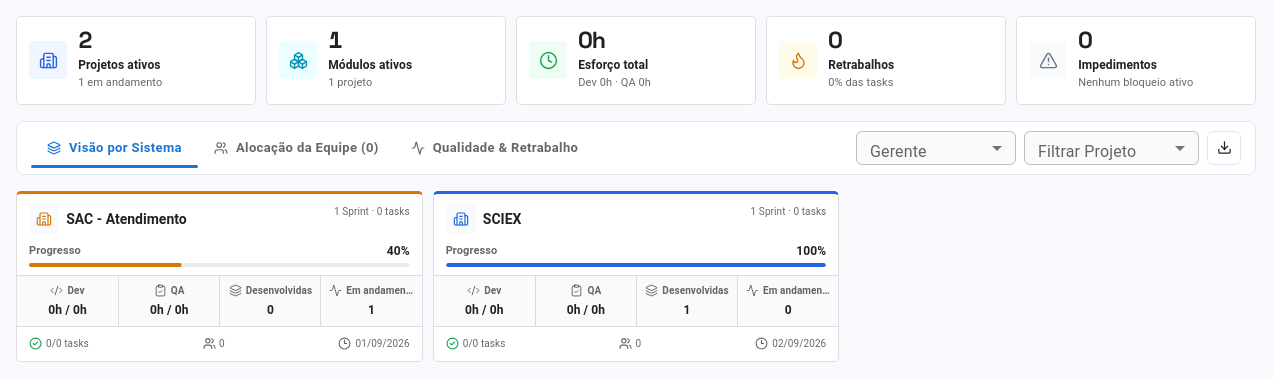
Test: LeaderProjectsPage › filtra projetos pelo gerente e atualiza a visão consolidada
Expected: the heading "SAC - Atendimento" is shown, left=66, top=211, right=187, bottom=227
Expected: the heading "SCIEX" is shown, left=483, top=211, right=521, bottom=227
Press the mouse on the dropdown named "Gerente" next to "Gerente" at x=936, y=148, box left=856, top=131, right=1016, bottom=165
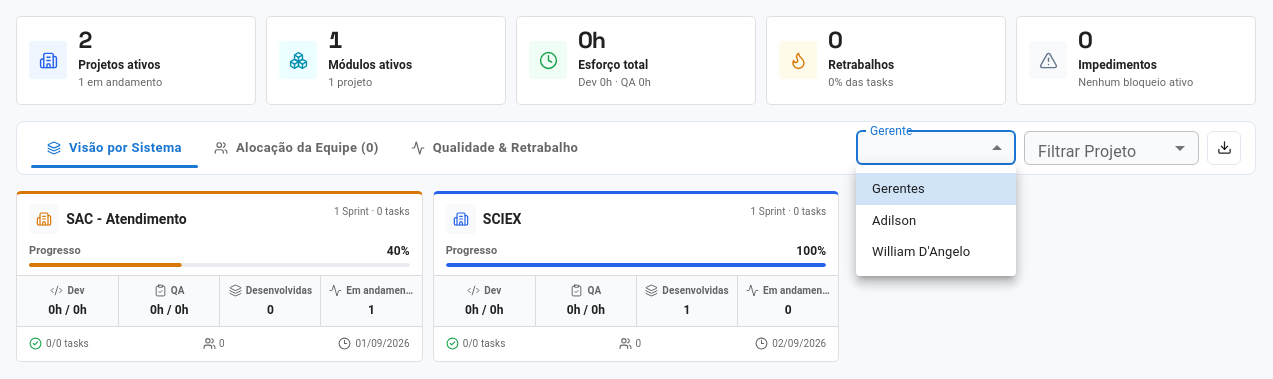
Click the option "Adilson".
click(894, 220)  # box left=872, top=212, right=916, bottom=228
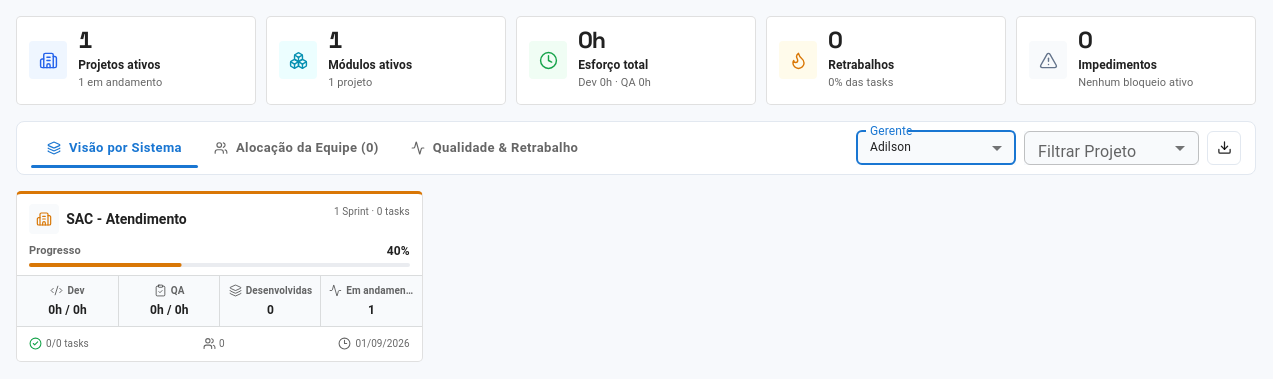
Expected: the heading "SAC - Atendimento" is shown, left=66, top=211, right=187, bottom=227
Now the heading "SCIEX" is gone
